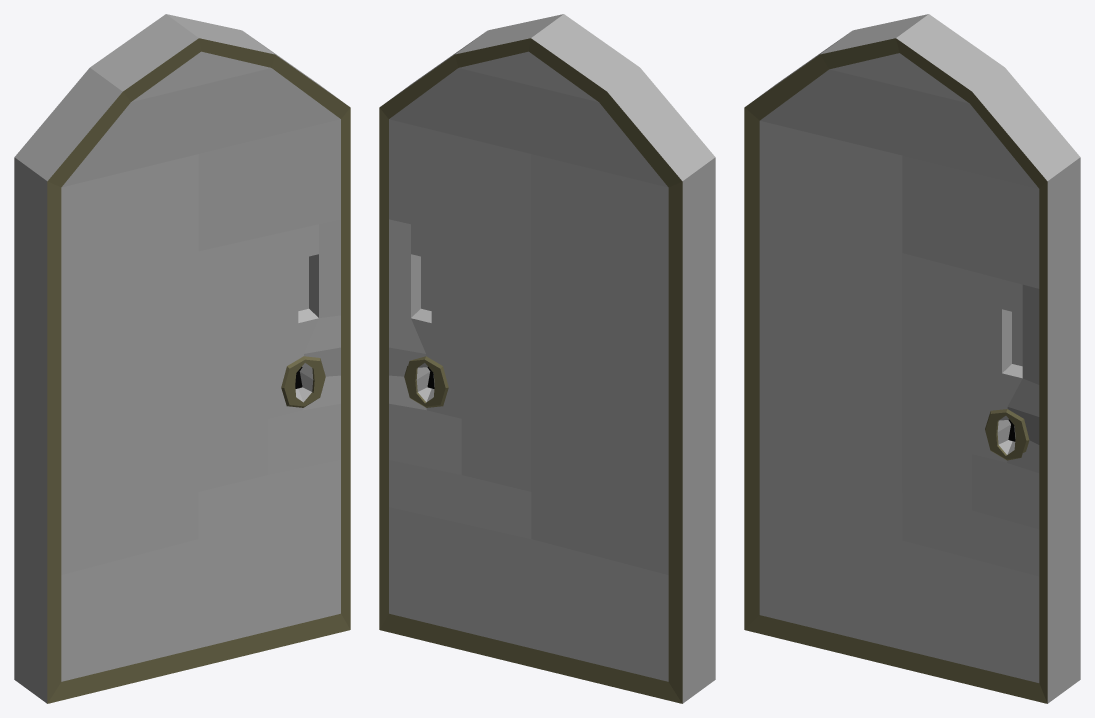
The model's file is trainDoor.fbx.
The picture shows the model from 3 angles, left to right: view 1: azimuth 30°, elevation 25°; view 2: azimuth 150°, elevation 25°; view 3: azimuth 330°, elevation 25°; orthographic projection.
Visible parts, largest first — view 1: Cube.001; view 2: Cube.001; view 3: Cube.001.
Part boxes in pixels (box(x1,y1,x2,y2)): Cube.001: box(14, 14, 350, 703); Cube.001: box(379, 14, 715, 703); Cube.001: box(744, 14, 1080, 703).
Bounding box in the file's own units: 127 × 252 × 24.02.
